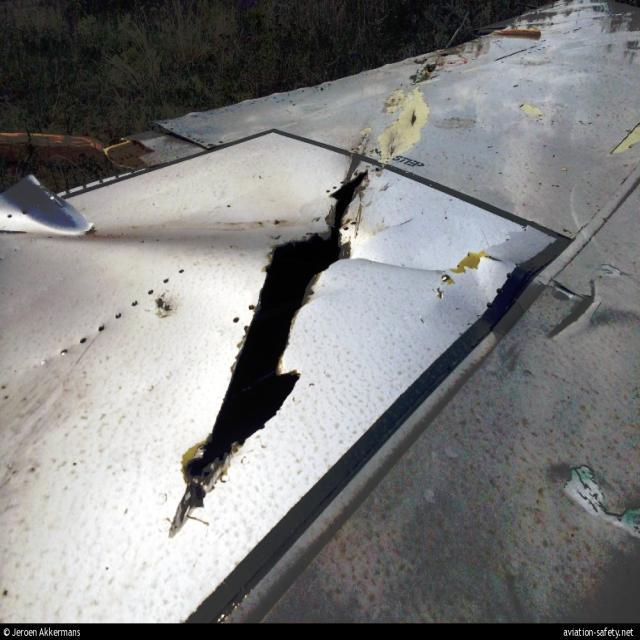crack: (172, 166, 374, 513), (412, 108, 420, 129)
